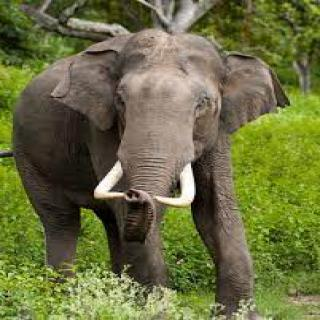Elephant: (5, 29, 291, 315)
